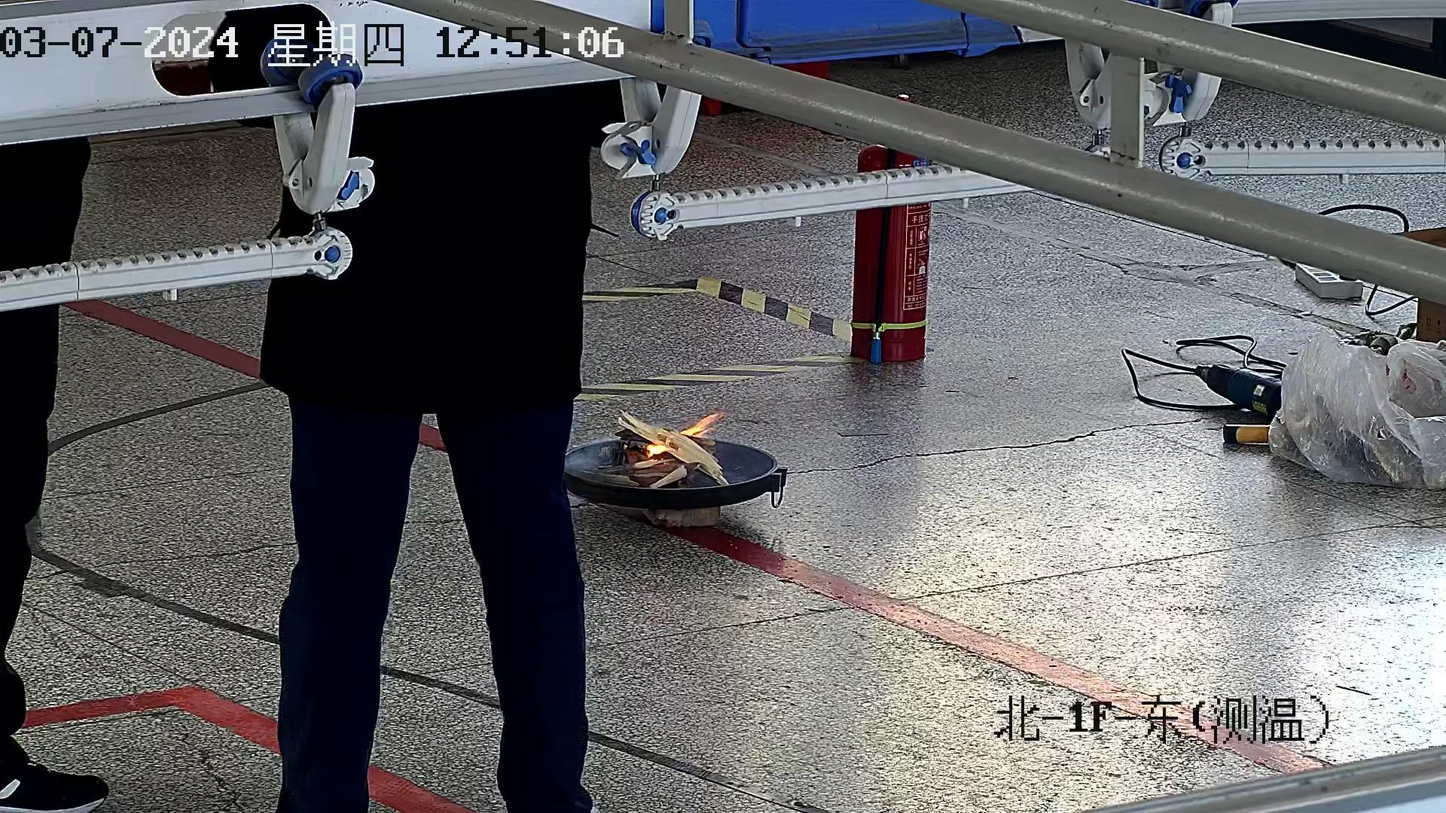fire: (681, 412, 722, 438), (645, 442, 670, 458)
